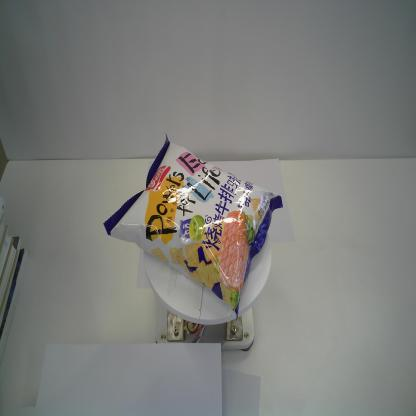Puffed Food: (101, 132, 284, 322)
